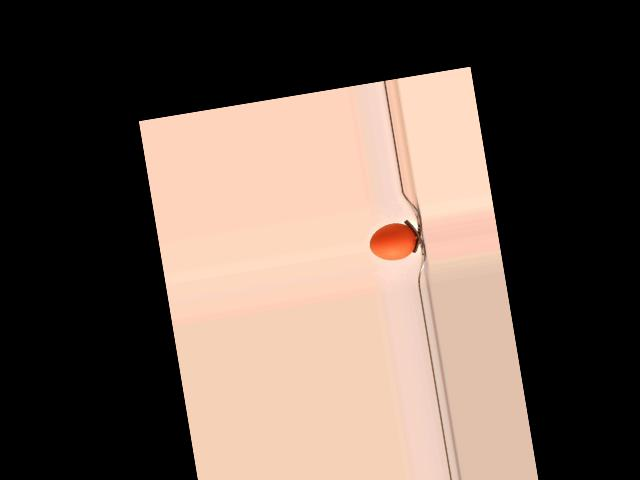egg: (367, 220, 419, 264)
